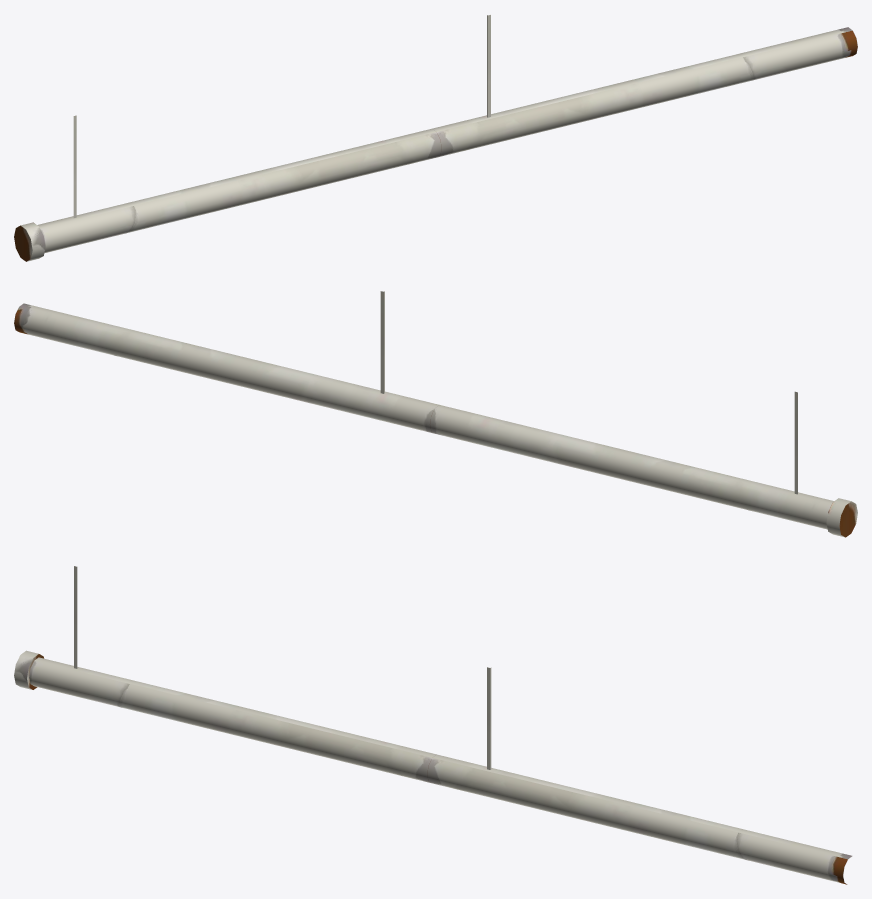
The picture shows the model from 3 angles, top to bottom: view 1: azimuth 30°, elevation 25°; view 2: azimuth 150°, elevation 25°; view 3: azimuth 330°, elevation 25°; orthographic projection.
Parts seen in each view (by area): view 1: body0_model0_lod0_mesh0; view 2: body0_model0_lod0_mesh0; view 3: body0_model0_lod0_mesh0.
Part boxes in pixels (box(x1,y1,x2,y2)): body0_model0_lod0_mesh0: box(14, 15, 857, 261); body0_model0_lod0_mesh0: box(14, 291, 857, 537); body0_model0_lod0_mesh0: box(14, 566, 852, 884).
Bounding box in the file's own units: 128 × 19.38 × 5.
1 material, 1 textured.
